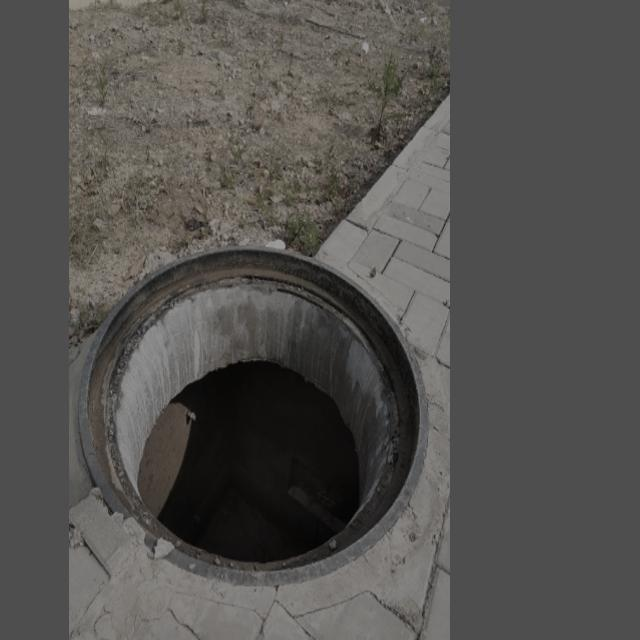lose: (77, 244, 430, 583)
